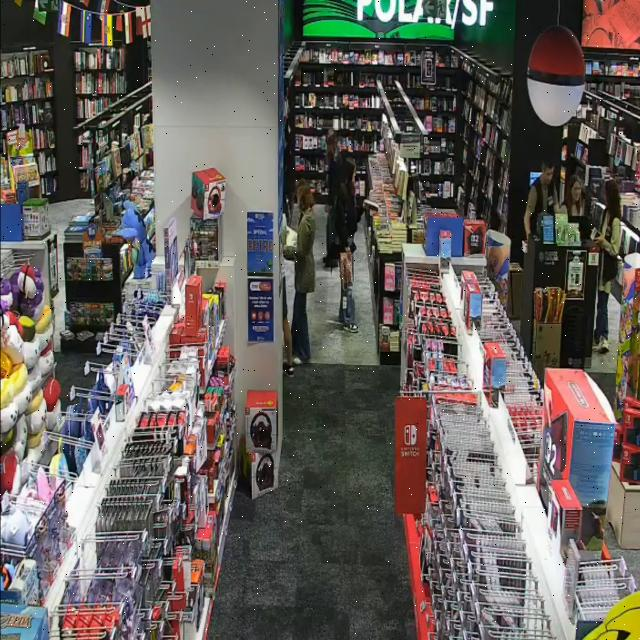article: (364, 199, 379, 212), (590, 227, 602, 240)
bags: (339, 252, 353, 289)
hands: (595, 236, 605, 247), (343, 246, 351, 253)
person: (284, 188, 315, 365), (594, 180, 621, 353), (335, 159, 357, 333), (524, 161, 559, 241), (323, 129, 339, 267), (560, 174, 583, 216)
